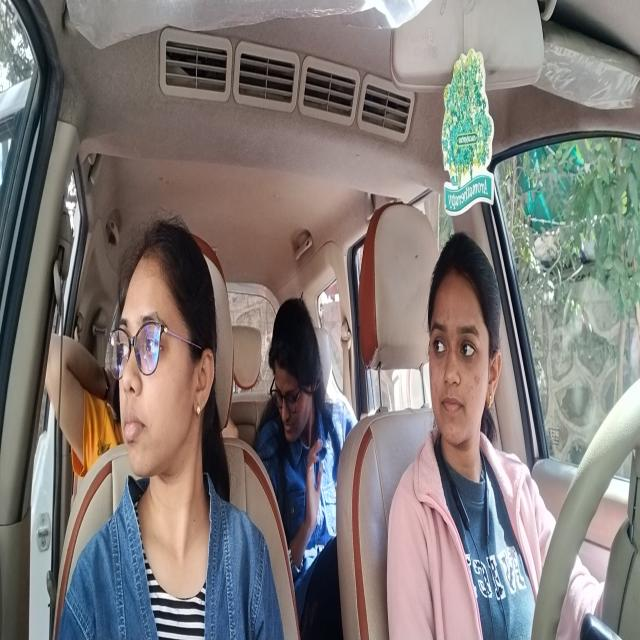LeftRight: (428, 242, 502, 449)
person: (114, 234, 218, 481), (267, 316, 323, 447)
